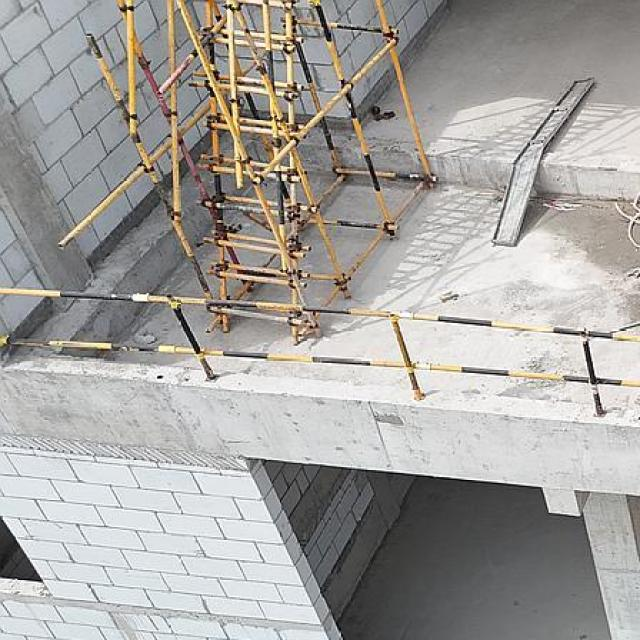edge_guardrail: (0, 285, 640, 416)
